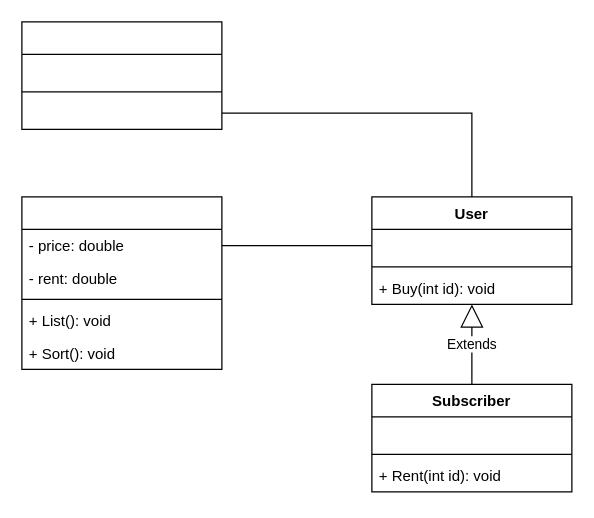
This 594x518 diagram has some shape labels left out. Each missing label, with the box of its shape:
App: (21, 21, 222, 129)
Film: (21, 196, 222, 369)
